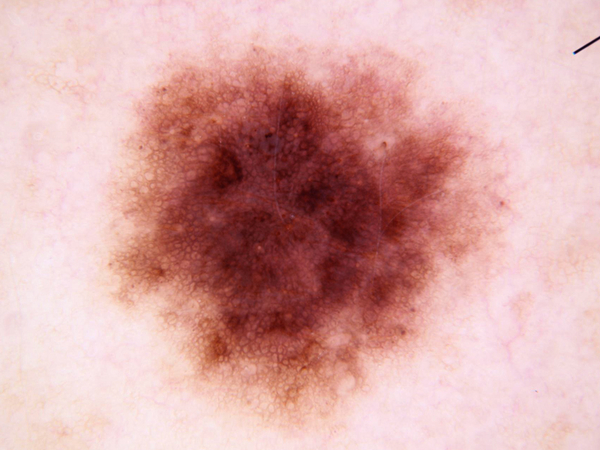Detected Lesion: (100, 43, 512, 435)
